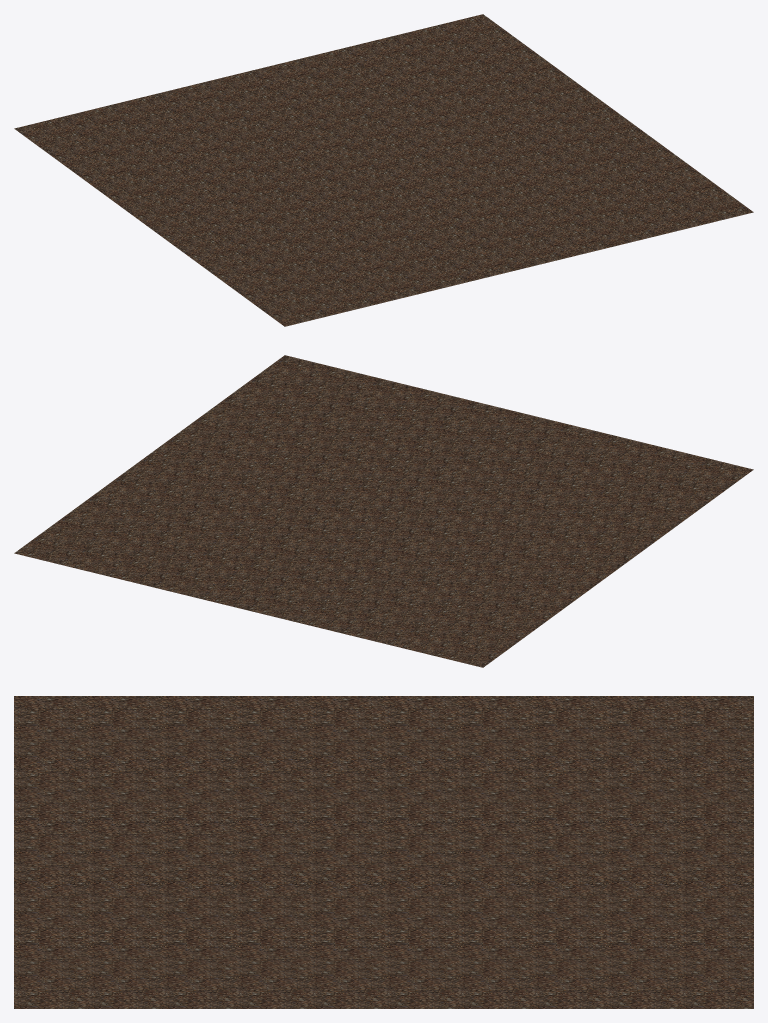
The picture shows the model from 3 angles, top to bottom: view 1: azimuth 30°, elevation 25°; view 2: azimuth 150°, elevation 25°; view 3: azimuth 270°, elevation 25°; orthographic projection. The views are drawn at different scales.
Visible parts, largest first — view 1: Ebene; view 2: Ebene; view 3: Ebene.
Boxes of the visible parts, x1,y1,x2,y2 form: Ebene: (14,14,753,326); Ebene: (14,355,753,667); Ebene: (14,696,753,1008).
Bounding box in the file's own units: 1 × 0 × 1.
Materials: 1 (1 with a texture image).
